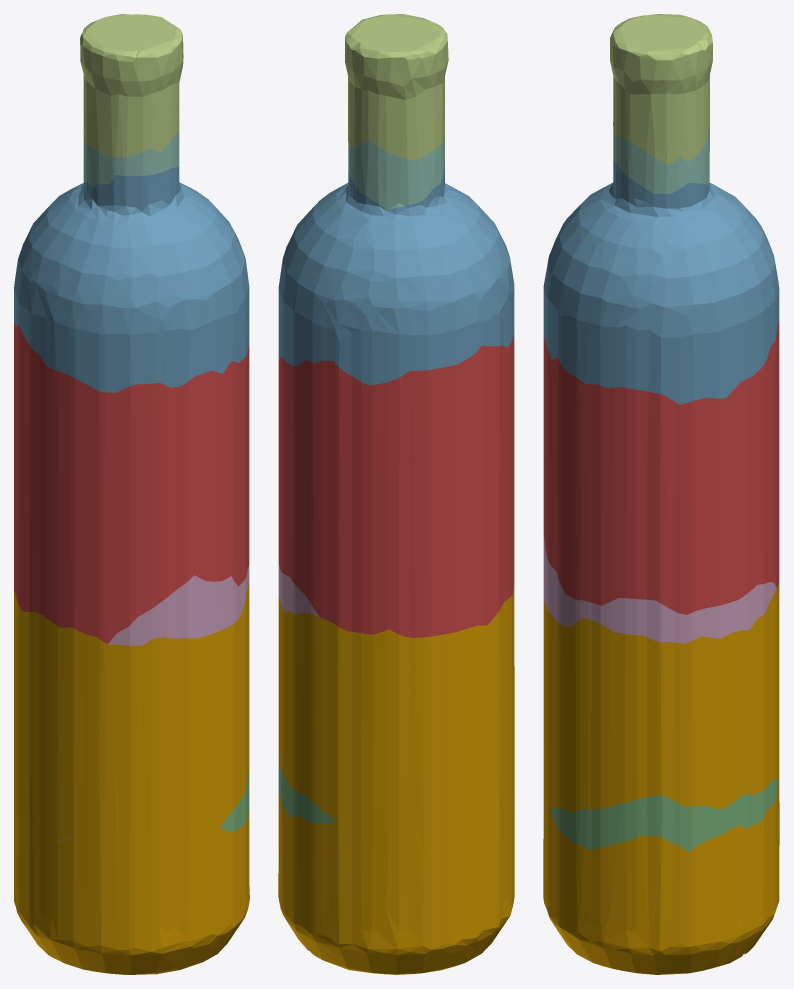
The model's file is fractured_36_8pcs.glb.
3 renders of one model, left to right at view 1: azimuth 30°, elevation 25°; view 2: azimuth 150°, elevation 25°; view 3: azimuth 270°, elevation 25°, orthographic.
Parts seen in each view (by area): view 1: piece_0.obj, piece_1.obj, piece_2.obj, piece_5.obj, piece_6.obj, piece_4.obj, piece_3.obj; view 2: piece_0.obj, piece_1.obj, piece_2.obj, piece_5.obj, piece_4.obj, piece_3.obj, piece_6.obj; view 3: piece_0.obj, piece_1.obj, piece_2.obj, piece_5.obj, piece_3.obj, piece_6.obj, piece_4.obj.
Part boxes in pixels (x1,y1,x2,y2): piece_0.obj: (14,583,249,974); piece_1.obj: (14,323,249,644); piece_2.obj: (14,167,249,392); piece_5.obj: (80,14,183,157); piece_6.obj: (108,565,249,645); piece_4.obj: (83,131,179,186); piece_3.obj: (220,769,249,832); piece_0.obj: (278,586,514,974); piece_1.obj: (278,335,514,637); piece_2.obj: (278,162,514,385); piece_5.obj: (345,14,448,160); piece_4.obj: (348,137,444,209); piece_3.obj: (278,767,337,824); piece_6.obj: (278,564,319,616); piece_0.obj: (543,583,779,974); piece_1.obj: (543,321,779,614); piece_2.obj: (543,159,779,404); piece_5.obj: (610,14,712,164); piece_3.obj: (550,779,779,852); piece_6.obj: (543,535,776,643); piece_4.obj: (613,125,709,193).
Size of the model in its own units: 0.237 by 1 by 0.2368.
